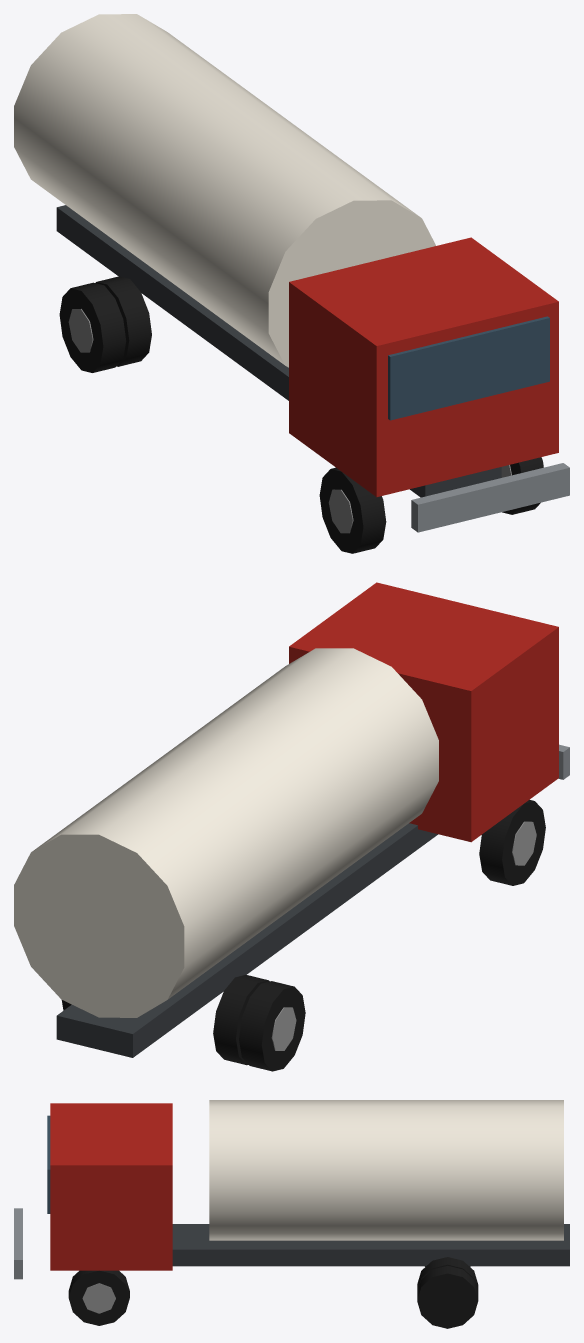
File: tanker_truck.glb
3 renders of one model, top to bottom at view 1: azimuth 30°, elevation 25°; view 2: azimuth 150°, elevation 25°; view 3: azimuth 270°, elevation 25°, orthographic. The views are drawn at different scales.
Visible parts, largest first — view 1: tanker_truck, wheel_RL, wheel_FL, wheel_FR; view 2: tanker_truck, wheel_RL, wheel_FL; view 3: tanker_truck, wheel_RR, wheel_FR.
Boxes of the visible parts, left/top/right/bottom form: tanker_truck: left=14, top=14, right=569, bottom=532; wheel_RL: left=59, top=276, right=151, bottom=372; wheel_FL: left=319, top=467, right=386, bottom=553; wheel_FR: left=501, top=457, right=543, bottom=514; tanker_truck: left=14, top=582, right=569, bottom=1057; wheel_RL: left=213, top=975, right=305, bottom=1071; wheel_FL: left=479, top=799, right=545, bottom=885; tanker_truck: left=14, top=1100, right=569, bottom=1279; wheel_RR: left=417, top=1257, right=478, bottom=1328; wheel_FR: left=68, top=1270, right=129, bottom=1325.
Bounding box in the file's own units: 2.65 × 3.4 × 9.09.
